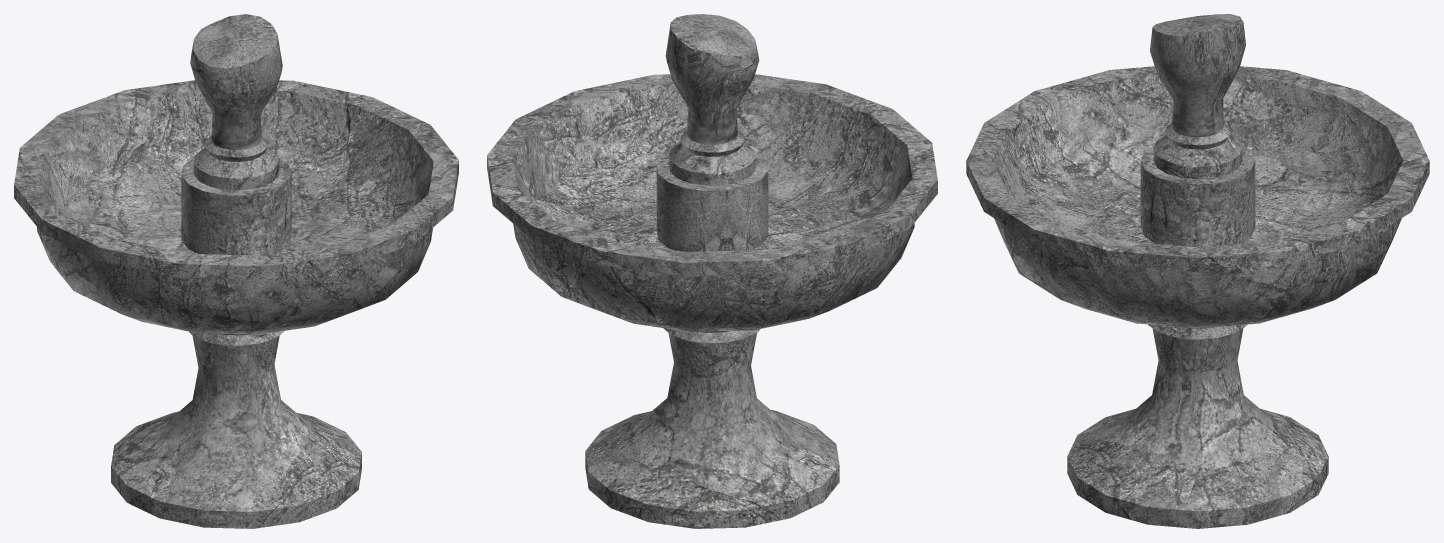
The model's file is materials_3_fountain_3.fbx.
3 renders of one model, left to right at view 1: azimuth 30°, elevation 25°; view 2: azimuth 150°, elevation 25°; view 3: azimuth 270°, elevation 25°, orthographic. The views are drawn at different scales.
Parts seen in each view (by area): view 1: materials_3_fountain_3; view 2: materials_3_fountain_3; view 3: materials_3_fountain_3.
Part boxes in pixels (<box>): materials_3_fountain_3: <box>14,14,458,528</box>; materials_3_fountain_3: <box>487,14,937,528</box>; materials_3_fountain_3: <box>966,14,1429,528</box>.
Bounding box in the file's own units: 118 × 129 × 118.
